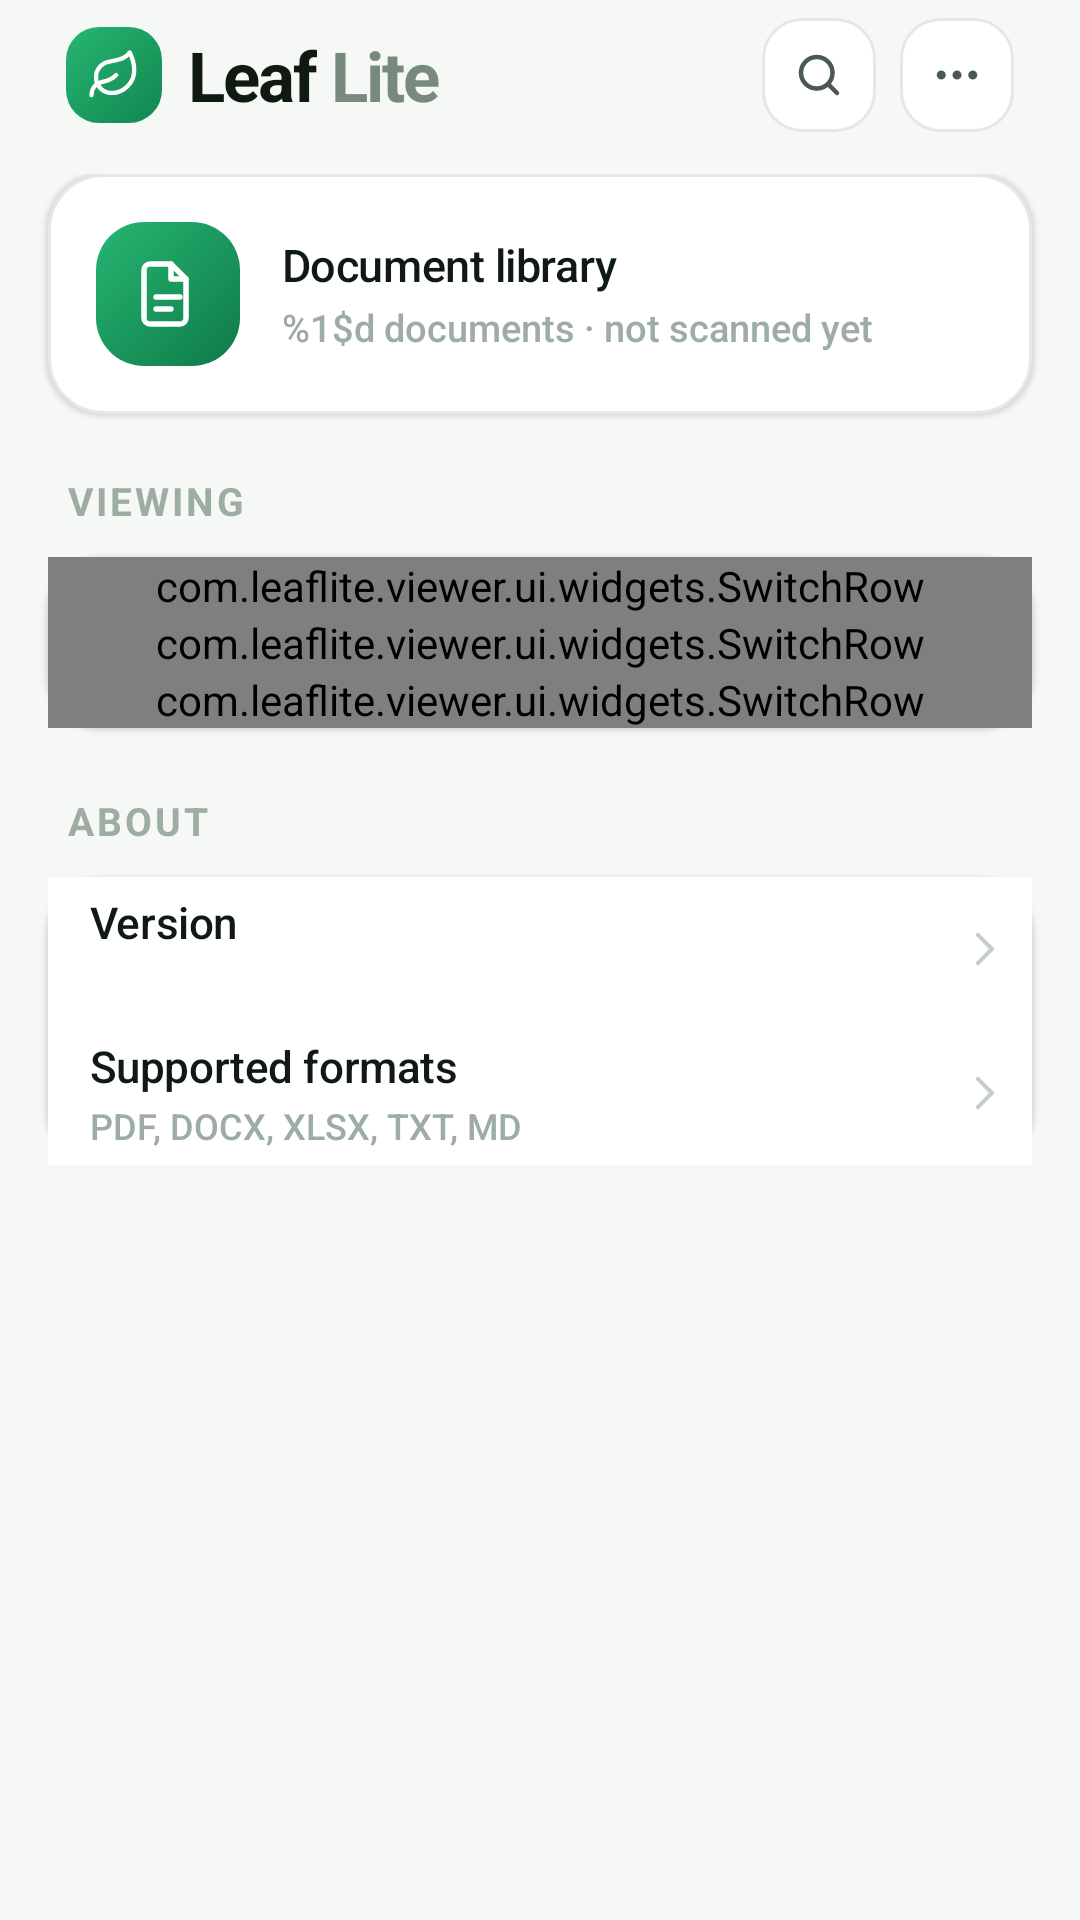

Named icons in this screenshot (1080 × 1920) and their bounding boxes, detection(x1, y1, x2, y2):
chevron right: detection(976, 933, 994, 965), detection(976, 1077, 994, 1109)
more: detection(936, 70, 978, 80)
search: detection(798, 54, 839, 96)
type doc: detection(141, 261, 189, 327)
